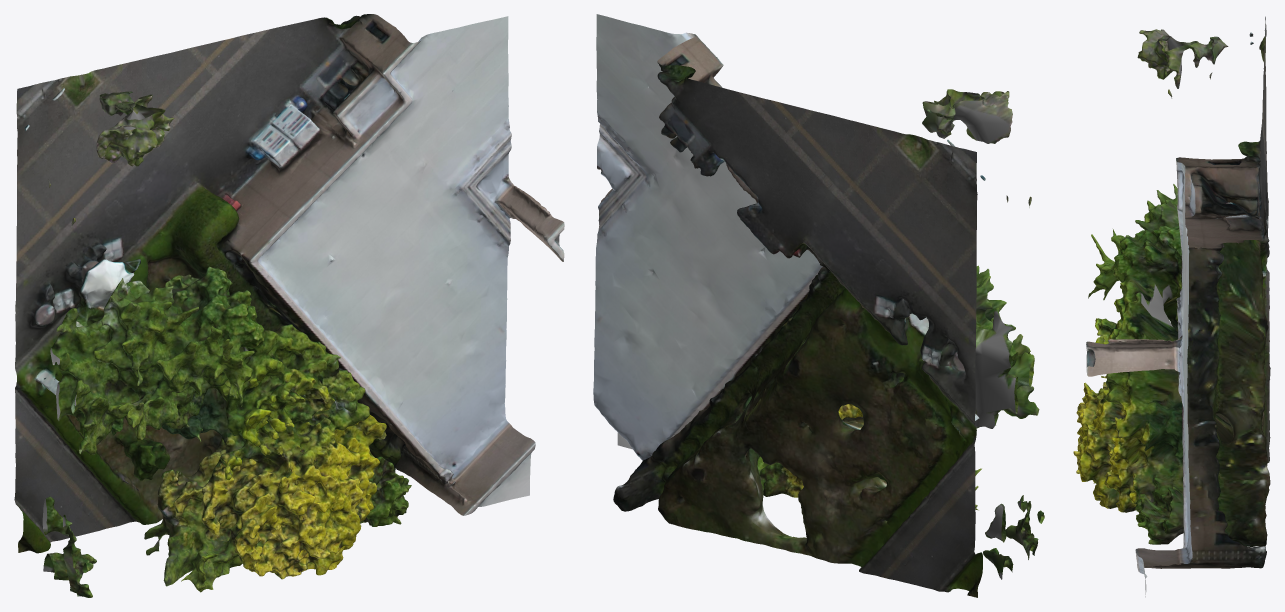
The model's file is Tile_+009_+014.fbx.
3 renders of one model, left to right at view 1: azimuth 30°, elevation 25°; view 2: azimuth 150°, elevation 25°; view 3: azimuth 270°, elevation 25°, orthographic. The views are drawn at different scales.
Visible parts, largest first — view 1: DefaultName; view 2: DefaultName; view 3: DefaultName.
Part boxes in pixels (<box>): DefaultName: <box>14,14,564,597</box>; DefaultName: <box>593,14,1044,597</box>; DefaultName: <box>1073,16,1270,597</box>.
Bounding box in the file's own units: 22.54 × 22.54 × 10.11.
